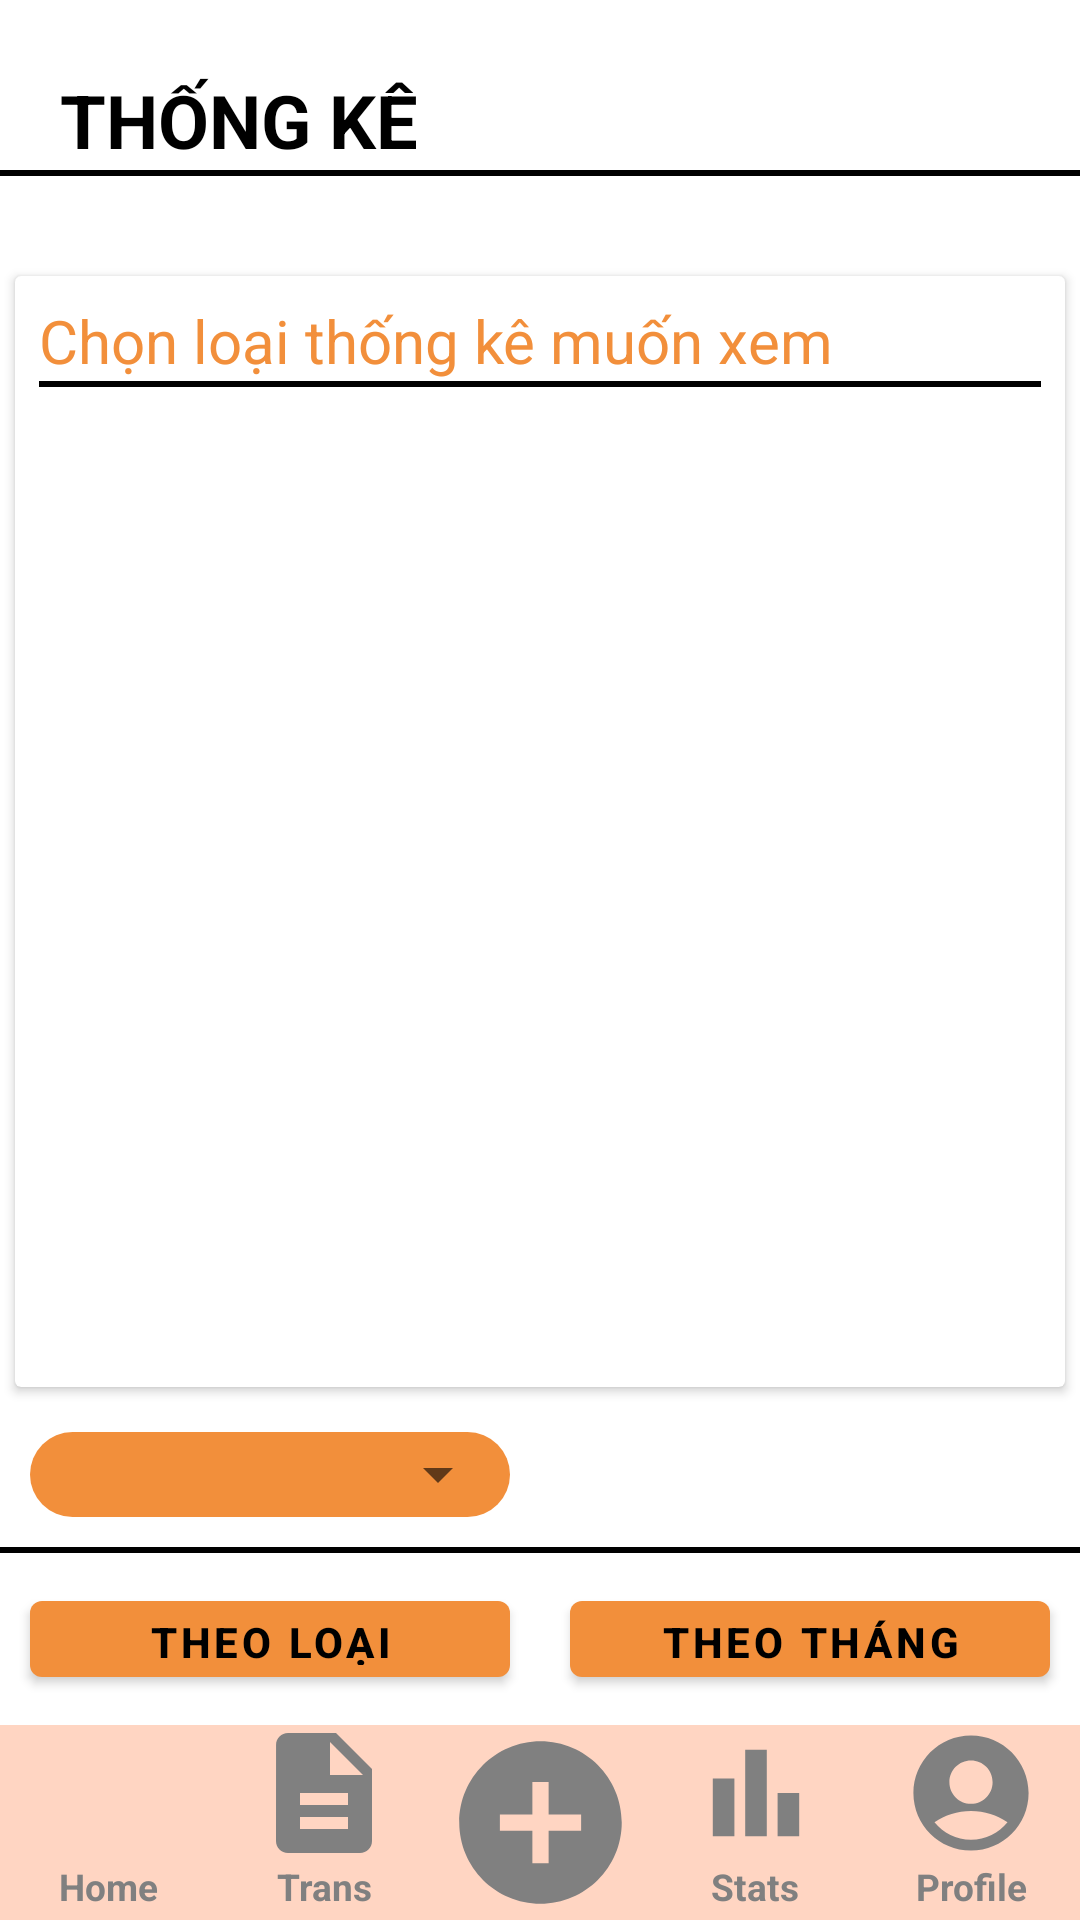

Where to tap for icons on this 1080 × 1920 app screen, as (x=x, y=y):
account circle: (x=971, y=1793)
add circle: (x=540, y=1822)
bar chart: (x=756, y=1793)
description: (x=324, y=1793)
